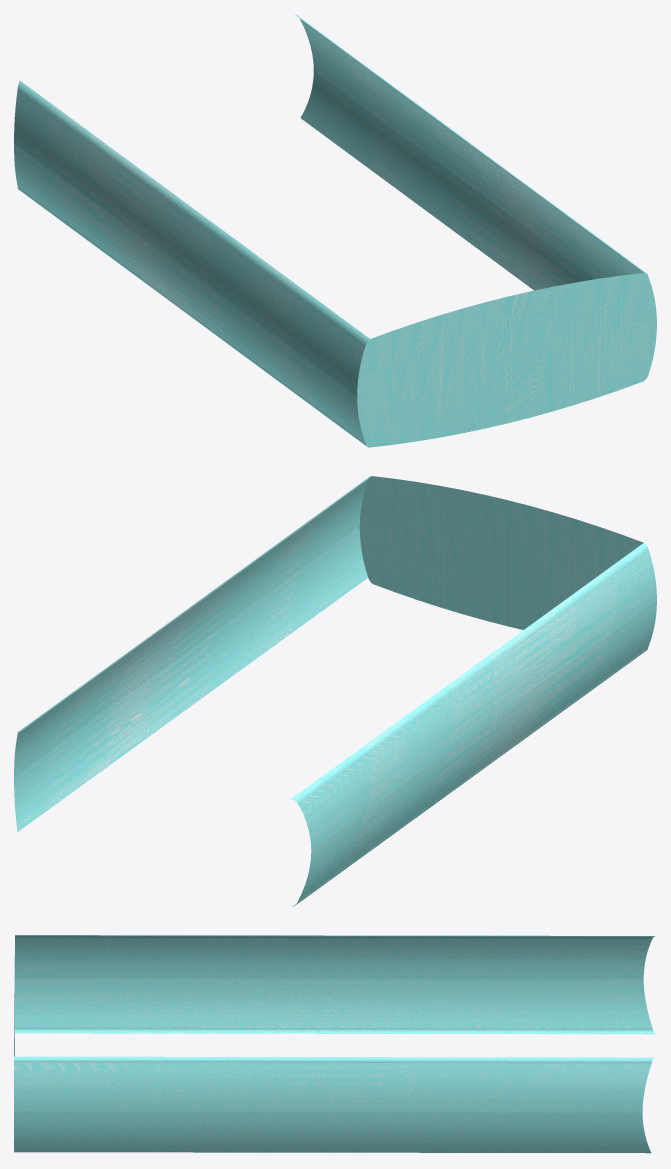
The model's file is original-14.obj.
3 views of the same model, one above another, from view 1: azimuth 30°, elevation 25°; view 2: azimuth 150°, elevation 25°; view 3: azimuth 270°, elevation 25° (orthographic). The views are drawn at different scales.
Parts seen in each view (by area): view 1: mesh25/mesh25-geometry#mesh25-geometry; view 2: mesh25/mesh25-geometry#mesh25-geometry; view 3: mesh25/mesh25-geometry#mesh25-geometry.
Part boxes in pixels (x1,y1,x2,y2): mesh25/mesh25-geometry#mesh25-geometry: (14, 14, 656, 447); mesh25/mesh25-geometry#mesh25-geometry: (14, 476, 656, 906); mesh25/mesh25-geometry#mesh25-geometry: (14, 935, 655, 1153).
Size of the model in its own units: 0.5353 by 0.2152 by 1.09.
